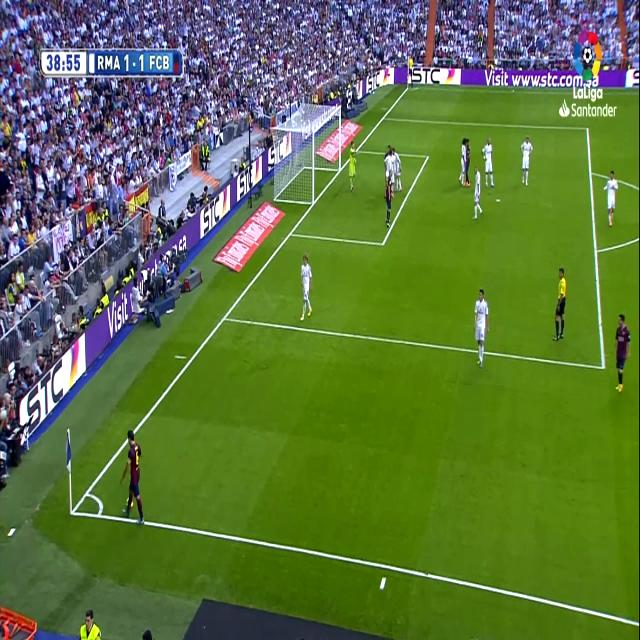bigarea_bottom_inner: (67, 498, 78, 522)
corner: (406, 84, 412, 92)
smallarea_top_inner: (425, 152, 429, 162)
smallarea_top_outter: (354, 143, 360, 157)
